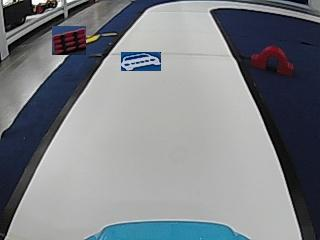bridge: (253, 43, 292, 75)
